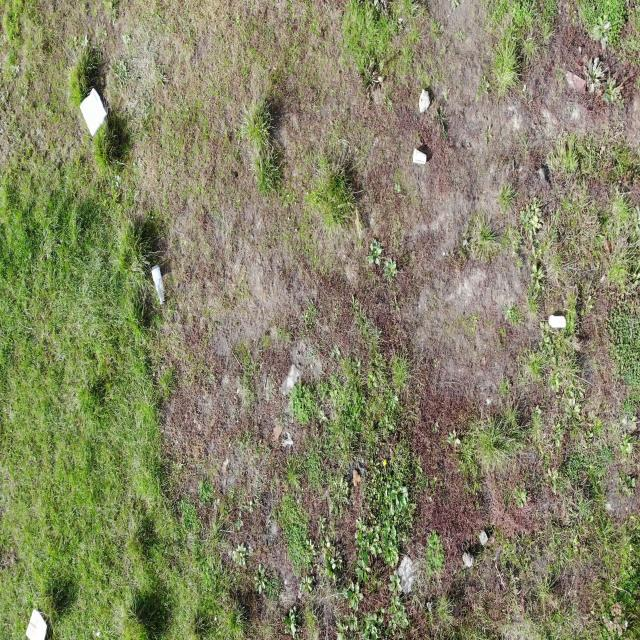rubbish: (79, 88, 108, 139), (149, 262, 165, 306), (26, 608, 48, 640), (546, 315, 567, 330), (412, 148, 427, 166)
